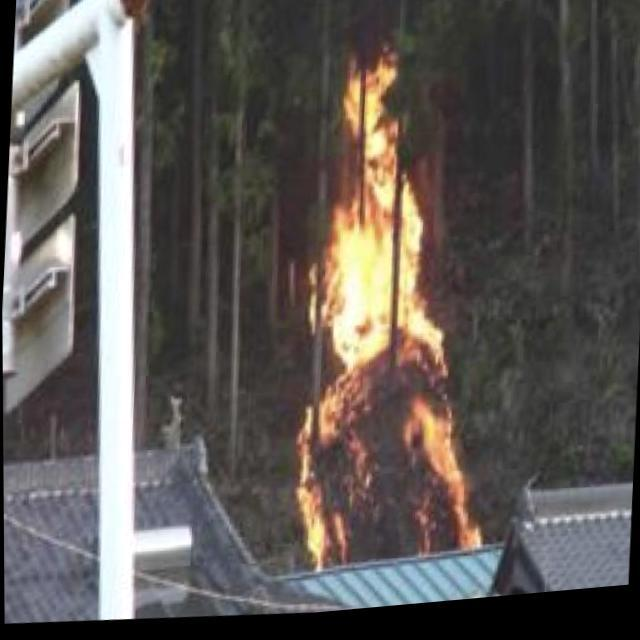fire: (286, 49, 499, 578)
